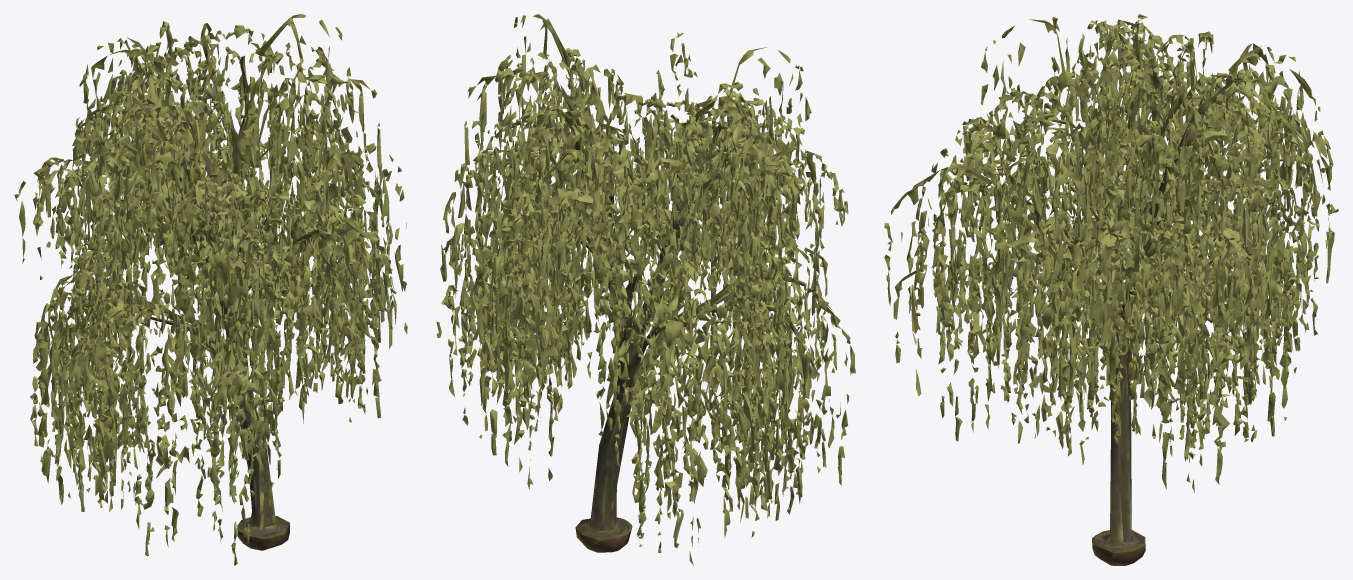
The model's file is willow.glb.
3 renders of one model, left to right at view 1: azimuth 30°, elevation 25°; view 2: azimuth 150°, elevation 25°; view 3: azimuth 270°, elevation 25°, orthographic. The views are drawn at different scales.
Parts seen in each view (by area): view 1: geometry_0; view 2: geometry_0; view 3: geometry_0.
Boxes of the visible parts, box(x1,y1,x2,y2) form: geometry_0: box(14, 14, 407, 565); geometry_0: box(436, 14, 855, 565); geometry_0: box(884, 14, 1338, 565).
Size of the model in its own units: 3.72 by 4.99 by 3.97.
1 material, 1 textured.
